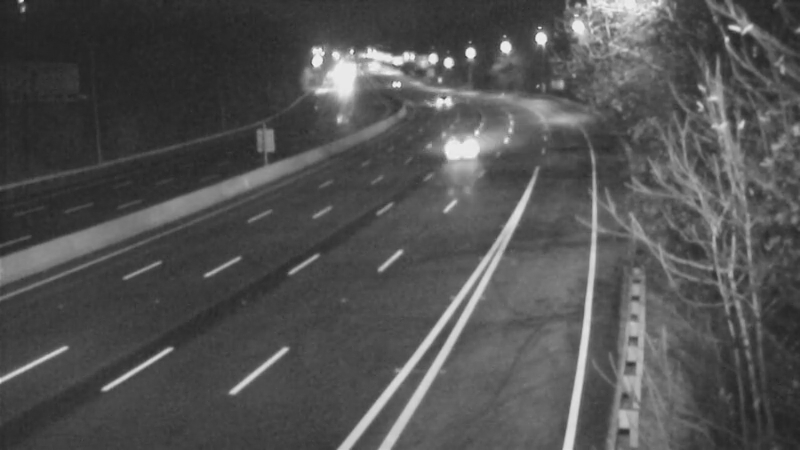vehicle: (370, 60, 420, 110), (406, 71, 456, 121), (433, 117, 483, 167)
